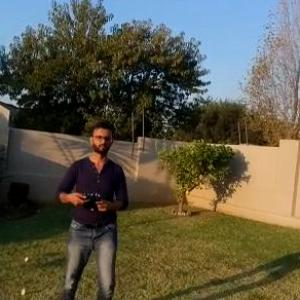follow: (52, 118, 134, 299)
